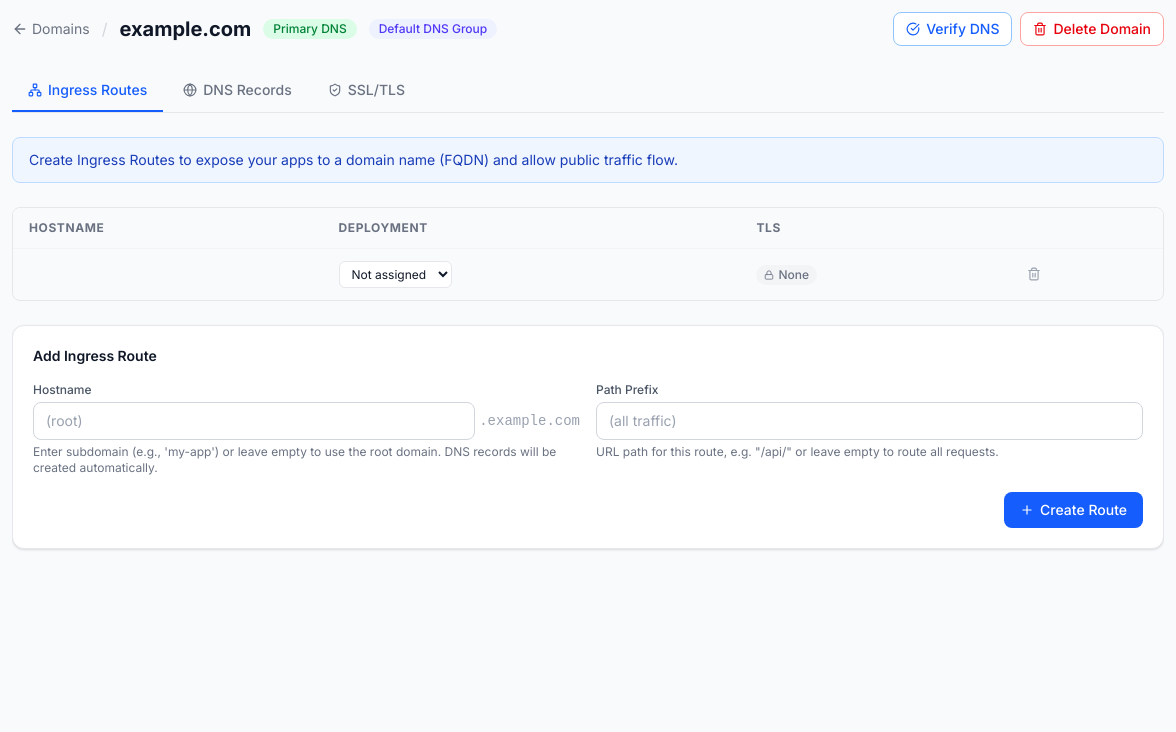
Test: Client DNS tab › renders DNS records (primary mode)
The width and height of the screenshot is (1176, 732).
Step 1. Click the button with test id "tab-dns" → [238, 91], box top-left (167, 70), bottom-right (308, 112)
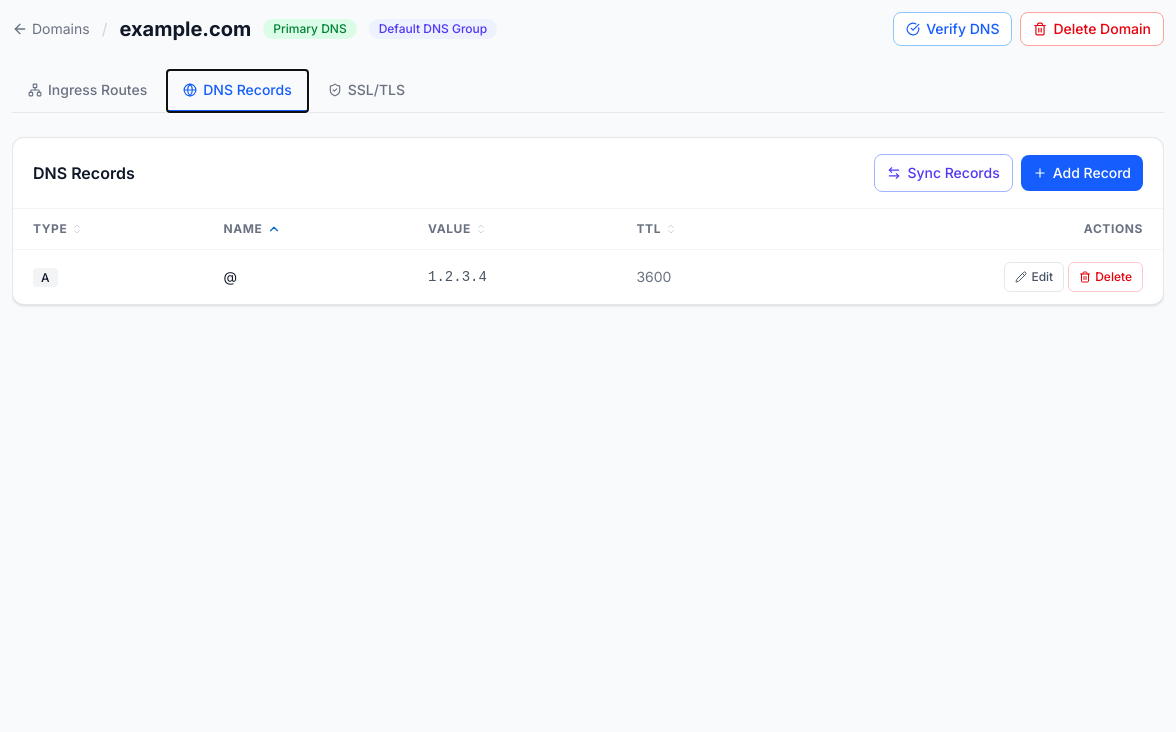
expect the table with test id "dns-records-table" is shown: met, box top-left (13, 209), bottom-right (1163, 304)
expect the text "1.2.3.4" is shown: met, box top-left (408, 250), bottom-right (616, 304)
